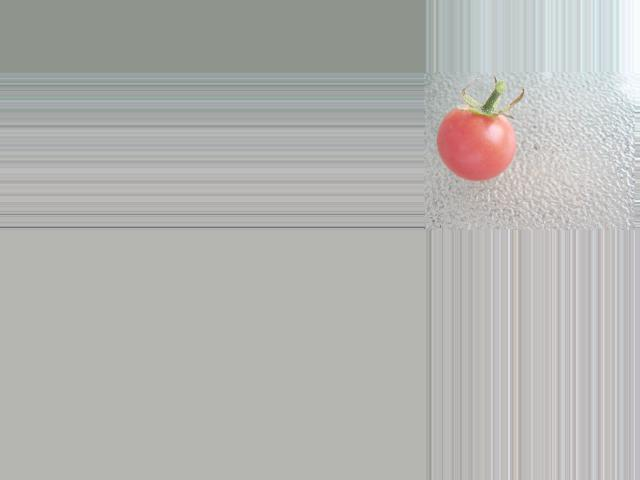tomato: (437, 108, 518, 182)
